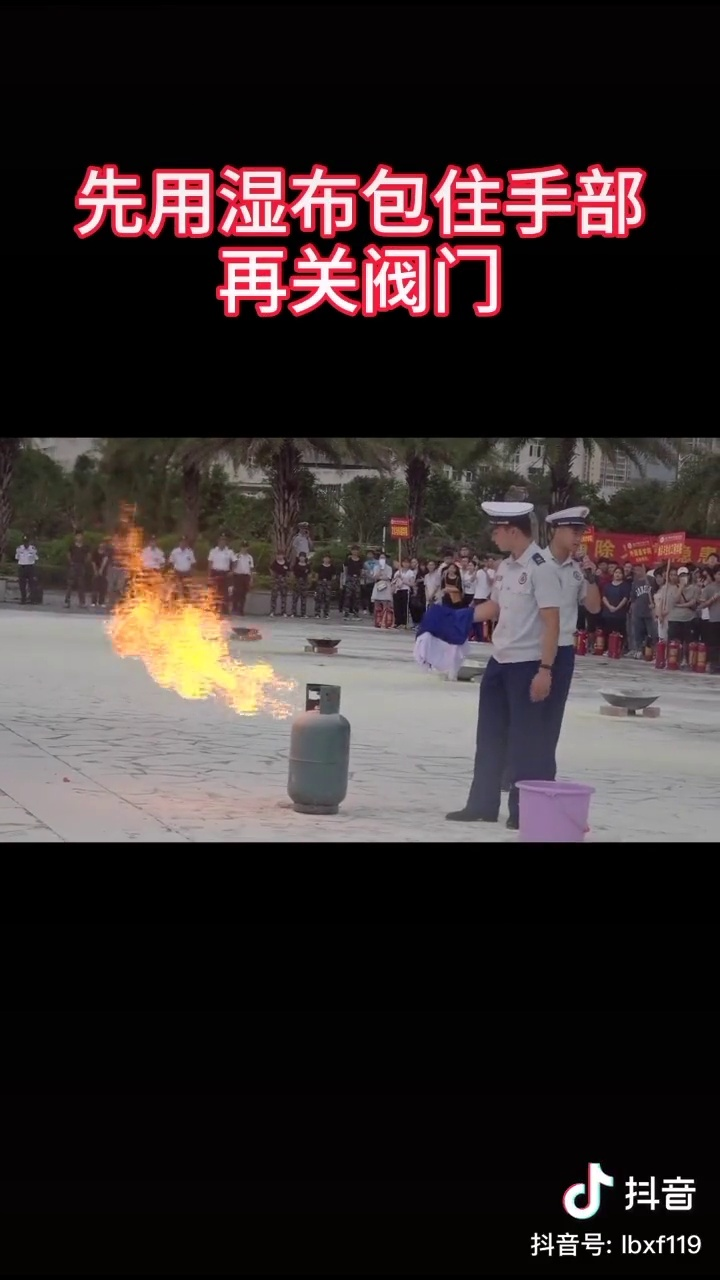fire: (108, 547, 282, 724)
